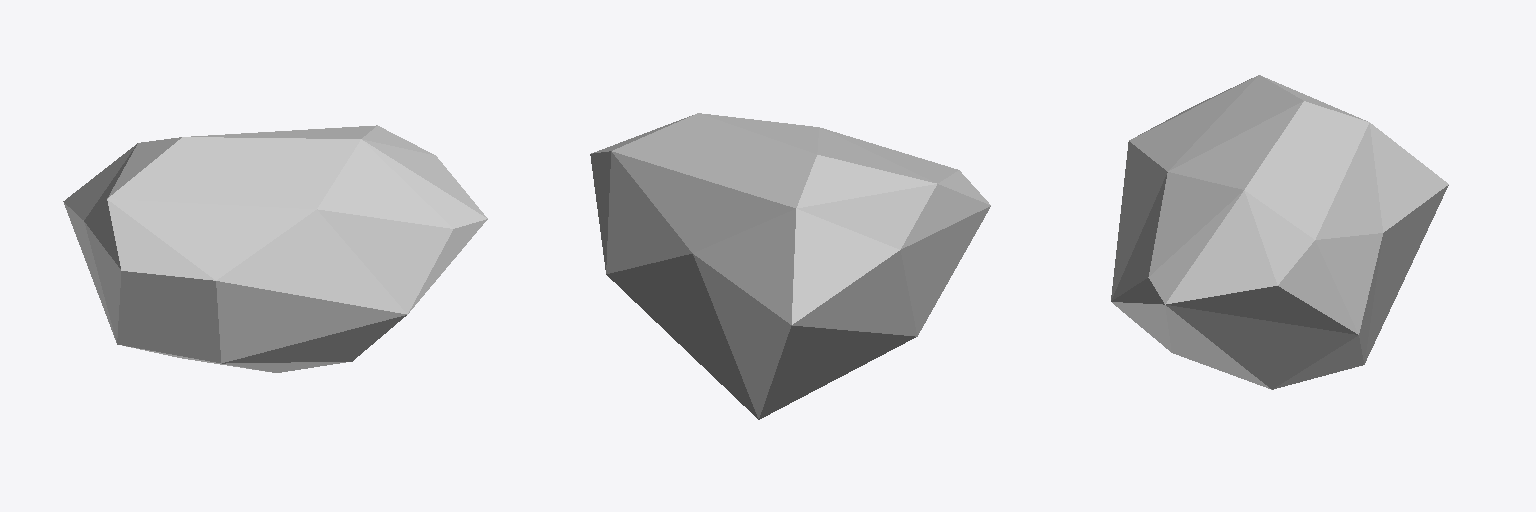
File: shrub_1.obj
The picture shows the model from 3 angles: view 1: azimuth 30°, elevation 25°; view 2: azimuth 150°, elevation 25°; view 3: azimuth 270°, elevation 25°; orthographic projection.
Visible parts, largest first — view 1: shrub_1; view 2: shrub_1; view 3: shrub_1.
Part boxes in pixels (bbox=[...]): shrub_1: bbox=[63, 125, 487, 372]; shrub_1: bbox=[590, 113, 990, 419]; shrub_1: bbox=[1111, 75, 1448, 389].
Size of the model in its own units: 3.18 by 2.12 by 2.6.